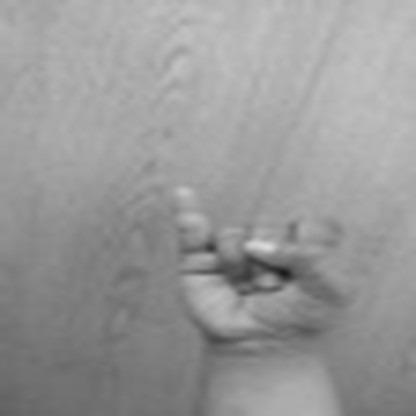i: (155, 173, 368, 345)
